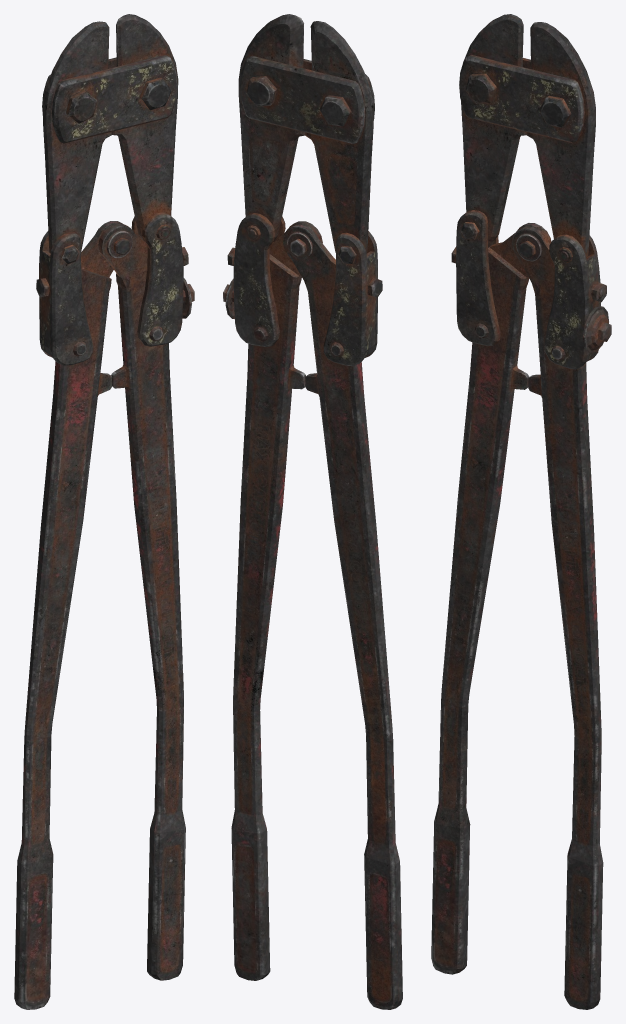
Rendered from BoltCutters.obj.
3 views of the same model, side by side, from view 1: azimuth 30°, elevation 25°; view 2: azimuth 150°, elevation 25°; view 3: azimuth 330°, elevation 25° (orthographic).
Parts seen in each view (by area): view 1: Plane_011; view 2: Plane_011; view 3: Plane_011.
Part boxes in pixels (x1=…): Plane_011: x1=14, y1=14, x2=194, y2=1009; Plane_011: x1=223, y1=14, x2=402, y2=1009; Plane_011: x1=431, y1=14, x2=611, y2=1009.
Bounding box in the file's own units: 0.151 × 0.8026 × 0.036.
Materials: 1 (1 with a texture image).
